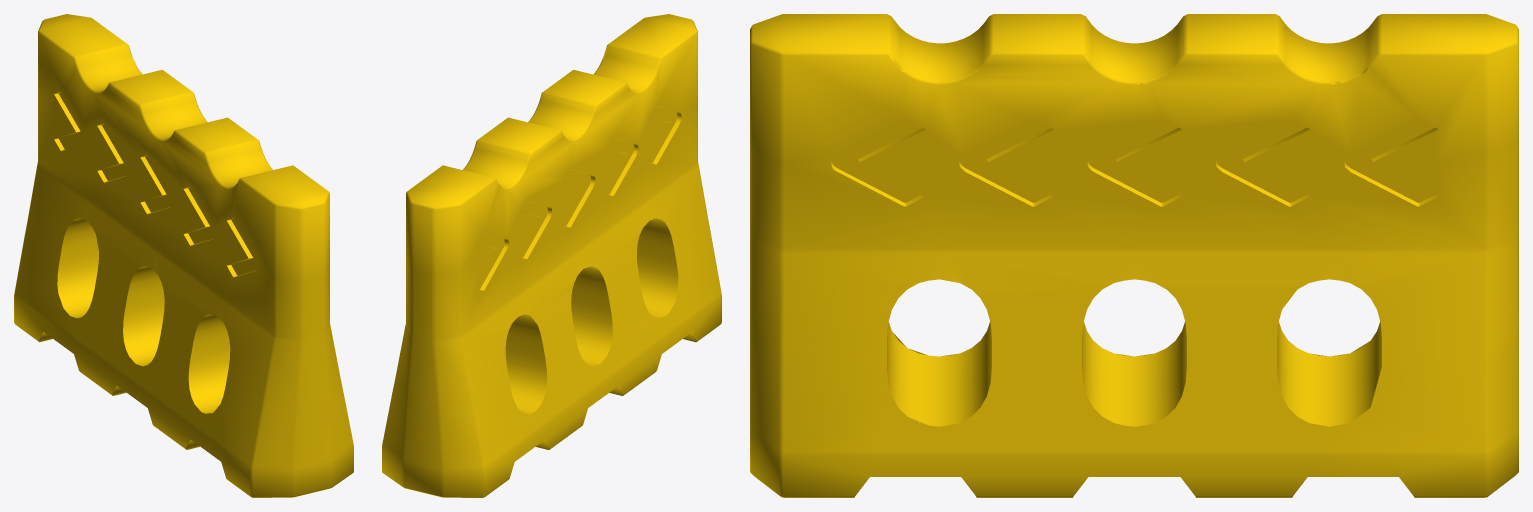
Rendered from Water_Bollard.fbx.
3 views of the same model, side by side, from view 1: azimuth 30°, elevation 25°; view 2: azimuth 150°, elevation 25°; view 3: azimuth 270°, elevation 25° (orthographic). The views are drawn at different scales.
Parts seen in each view (by area): view 1: Water_Bollard; view 2: Water_Bollard; view 3: Water_Bollard.
Boxes of the visible parts, x1,y1,x2,y2 form: Water_Bollard: (14,14,353,497); Water_Bollard: (382,14,721,497); Water_Bollard: (750,14,1518,497).
Size of the model in its own units: 0.3 by 0.8 by 1.3.
